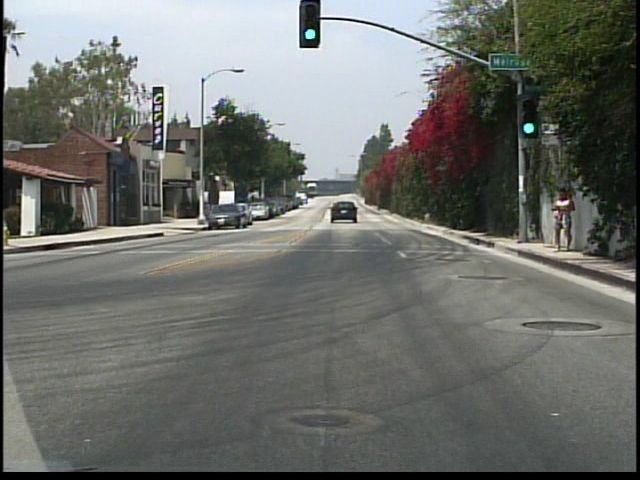person: (548, 187, 579, 253)
